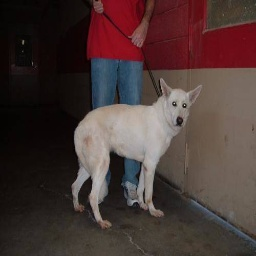dog: (76, 75, 200, 227)
